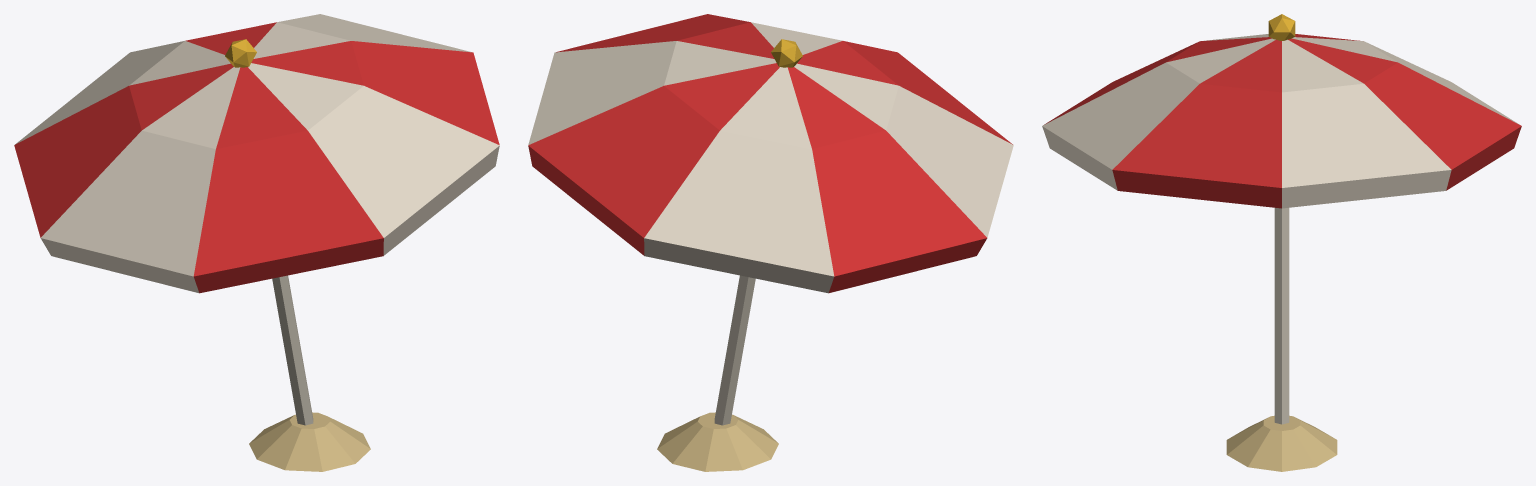
File: beach_umbrella.glb
3 renders of one model, left to right at view 1: azimuth 30°, elevation 25°; view 2: azimuth 150°, elevation 25°; view 3: azimuth 270°, elevation 25°, orthographic. The views are drawn at different scales.
Parts seen in each view (by area): view 1: beach_umbrella; view 2: beach_umbrella; view 3: beach_umbrella.
Part boxes in pixels (box(x1,y1,x2,y2)): beach_umbrella: box(14, 14, 499, 471); beach_umbrella: box(528, 14, 1013, 471); beach_umbrella: box(1042, 14, 1521, 471).
Bounding box in the file's own units: 1.22 × 1.14 × 1.24.
